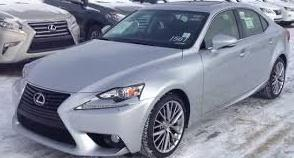Cars: (15, 3, 290, 158)
